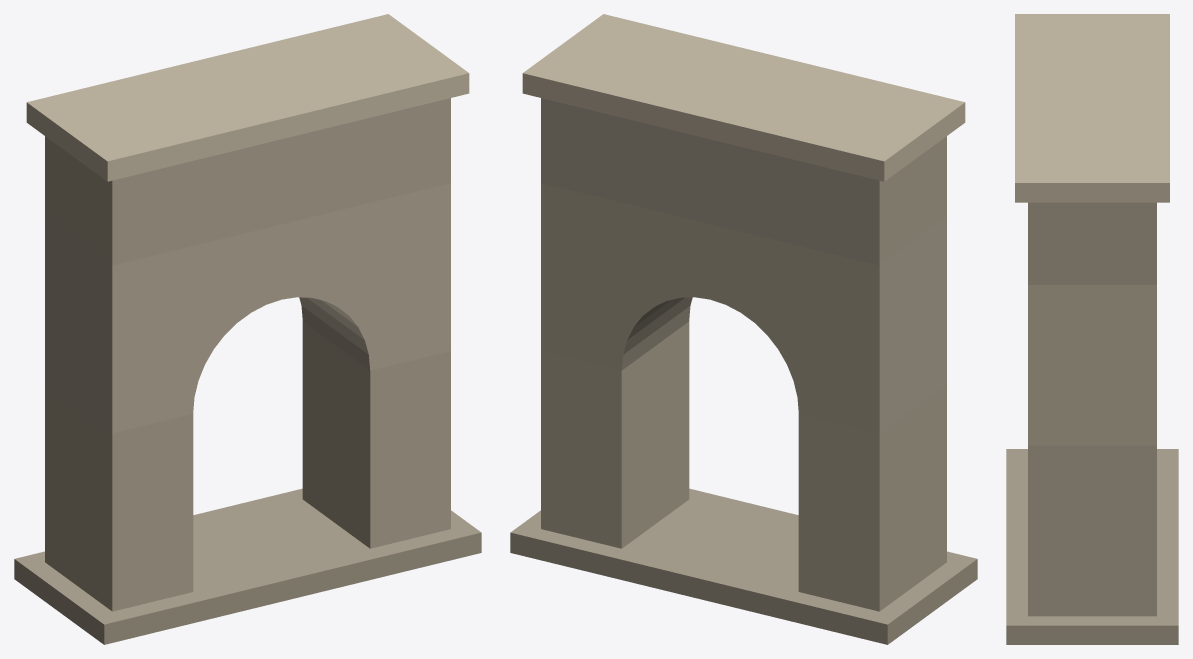
The picture shows the model from 3 angles, left to right: view 1: azimuth 30°, elevation 25°; view 2: azimuth 150°, elevation 25°; view 3: azimuth 270°, elevation 25°; orthographic projection. The views are drawn at different scales.
Visible parts, largest first — view 1: washington-square-arch-lod2; view 2: washington-square-arch-lod2; view 3: washington-square-arch-lod2.
Boxes of the visible parts, bbox=[...] form: washington-square-arch-lod2: bbox=[14, 14, 481, 644]; washington-square-arch-lod2: bbox=[510, 14, 977, 644]; washington-square-arch-lod2: bbox=[1006, 14, 1178, 644].
Size of the model in its own units: 38.8 by 47 by 16.
